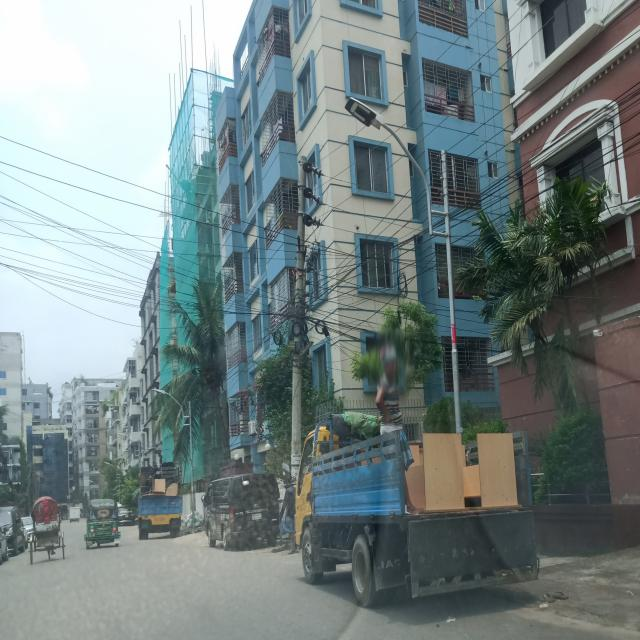car: (0, 504, 28, 560)
microbus: (198, 475, 282, 556)
pickup-van: (287, 416, 553, 618), (132, 460, 192, 548)
